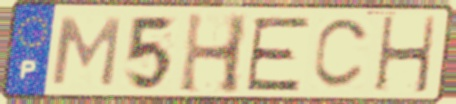5: (120, 13, 179, 92)
C: (310, 16, 374, 93)
E: (242, 14, 314, 93)
H: (176, 10, 252, 97), (373, 14, 439, 95)
M: (47, 15, 125, 90)
